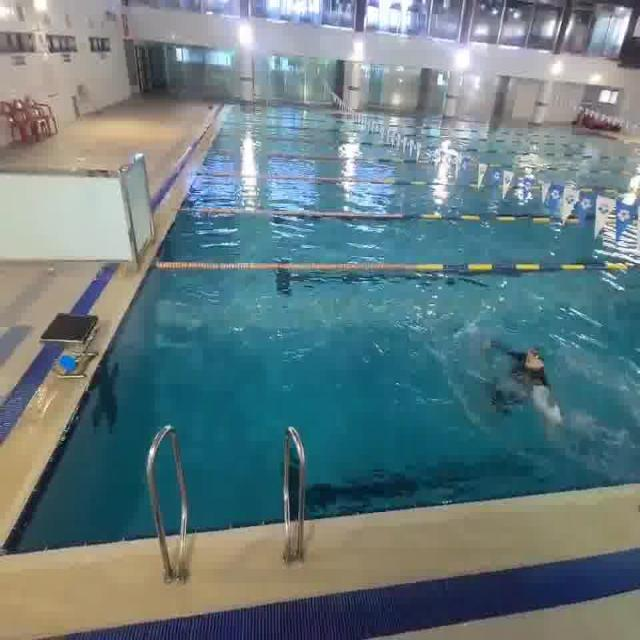Swimming: (468, 309, 586, 446)
